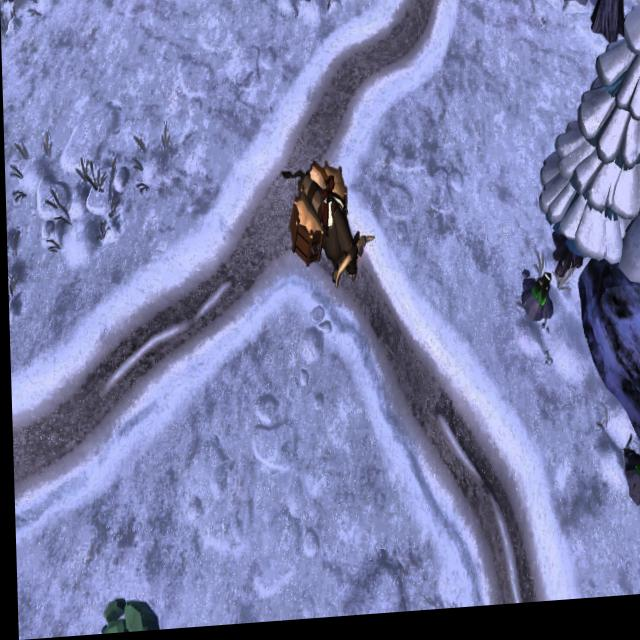ore_t3: (531, 276, 551, 318), (635, 456, 640, 497)
rock_t3: (95, 595, 156, 635)
